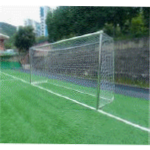goals: (25, 28, 119, 113)
